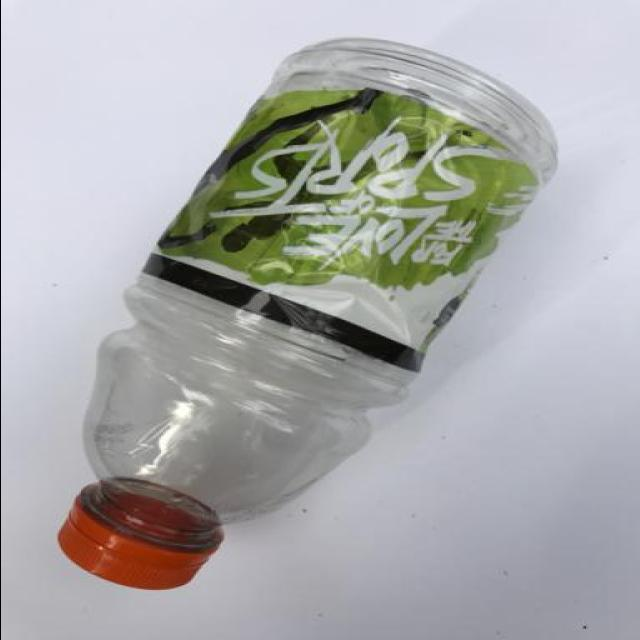litter: (51, 32, 566, 594)
